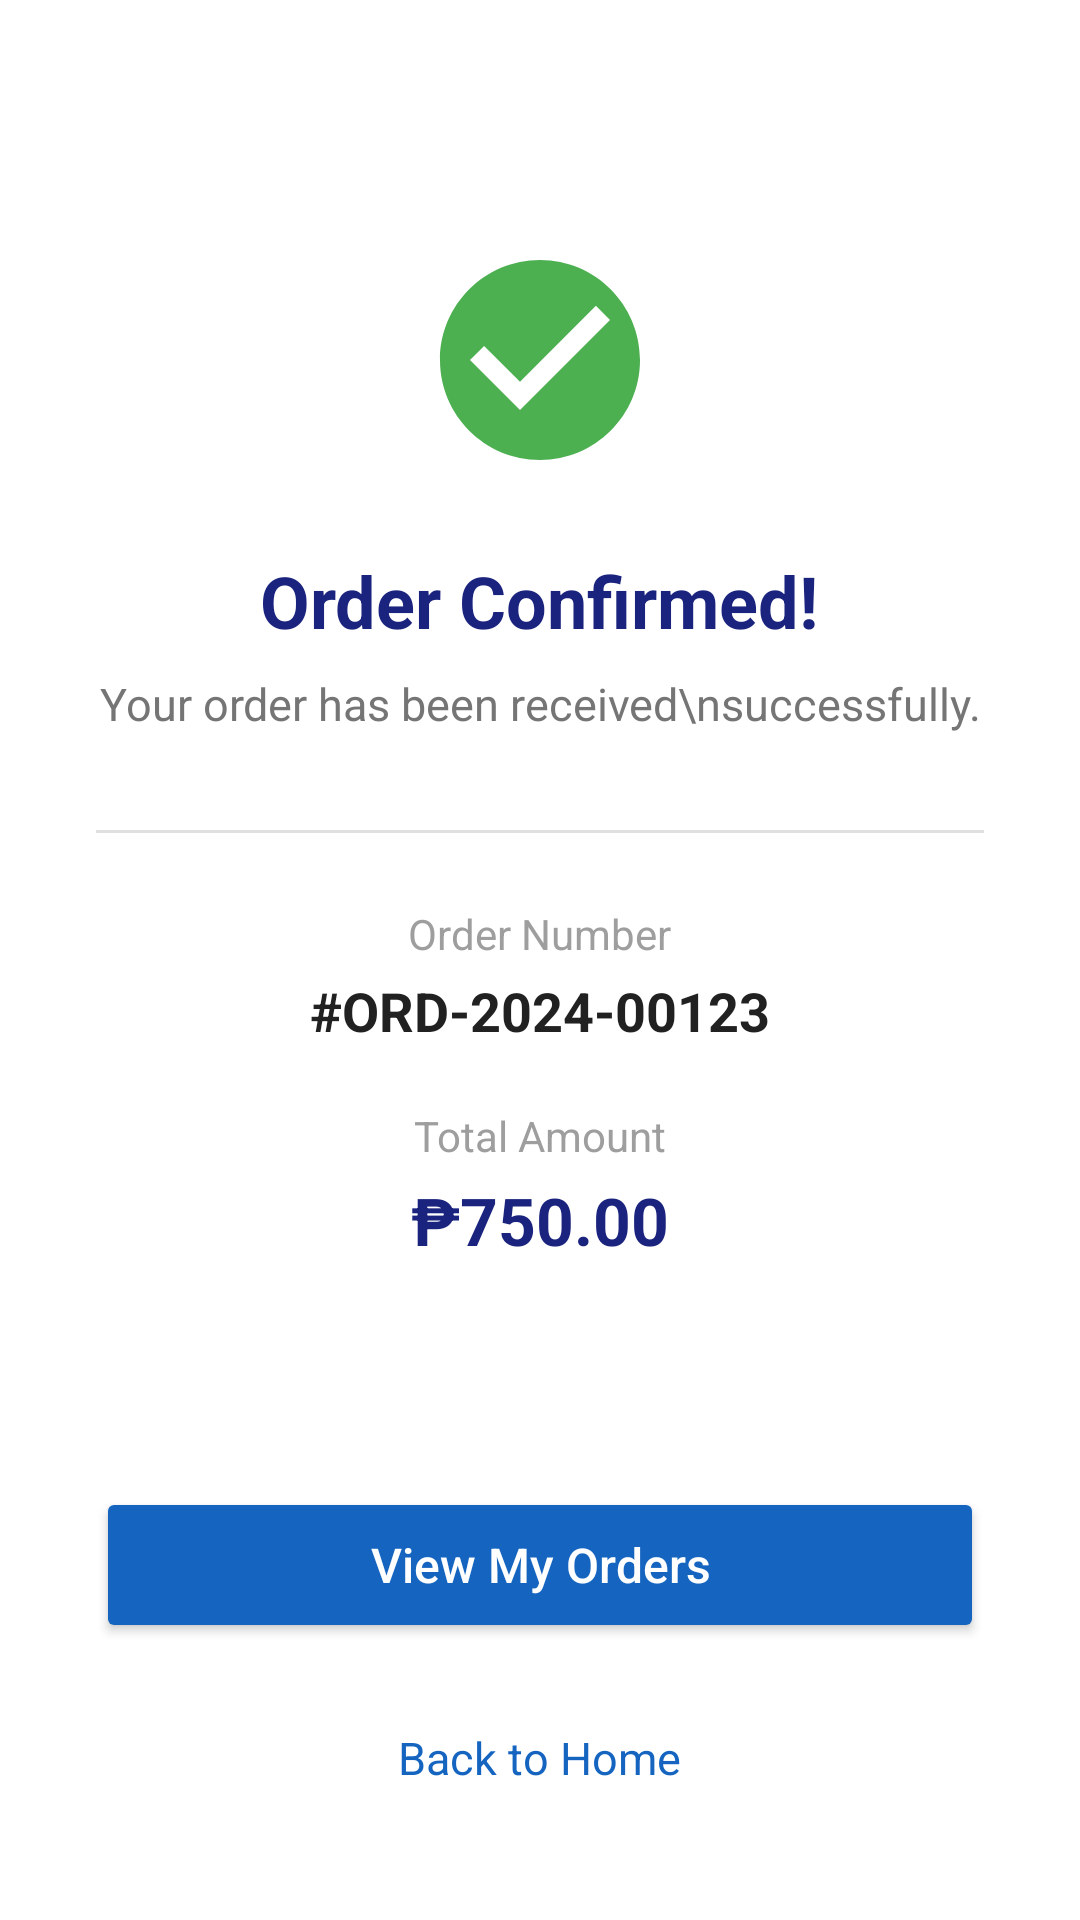

Icon bounding boxes for this 1080×1920 phone screenshot, format (x1, y1, x2, y2):
Success: (440, 260, 640, 460)
